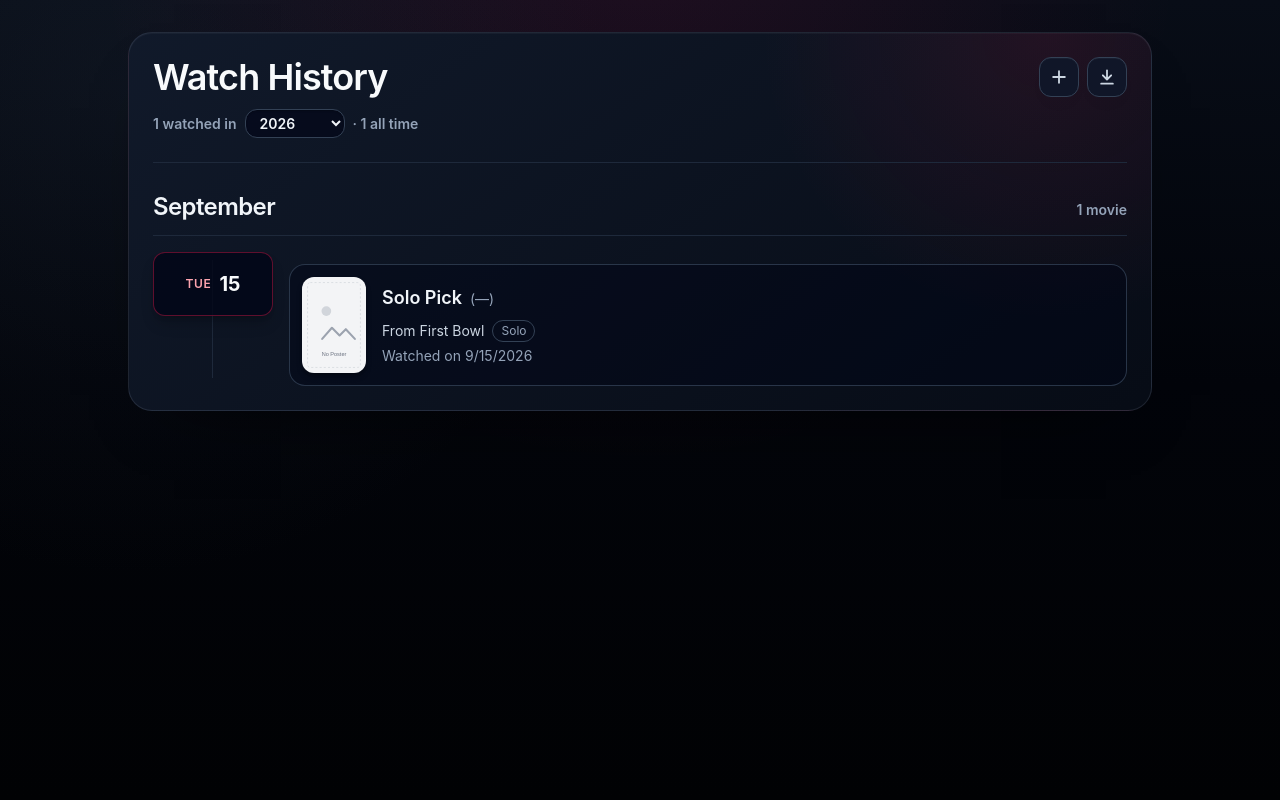
Test: WatchListPage solo undo › promises the copies back before undoing
The image size is (1280, 800).
Expected: the heading "Solo Pick" is shown, [382,284,462,312]
Click the button "Solo Pick (—) From First Bowl Solo Watched on 9/15/2026" at (334, 325), box [289,264,1127,386]
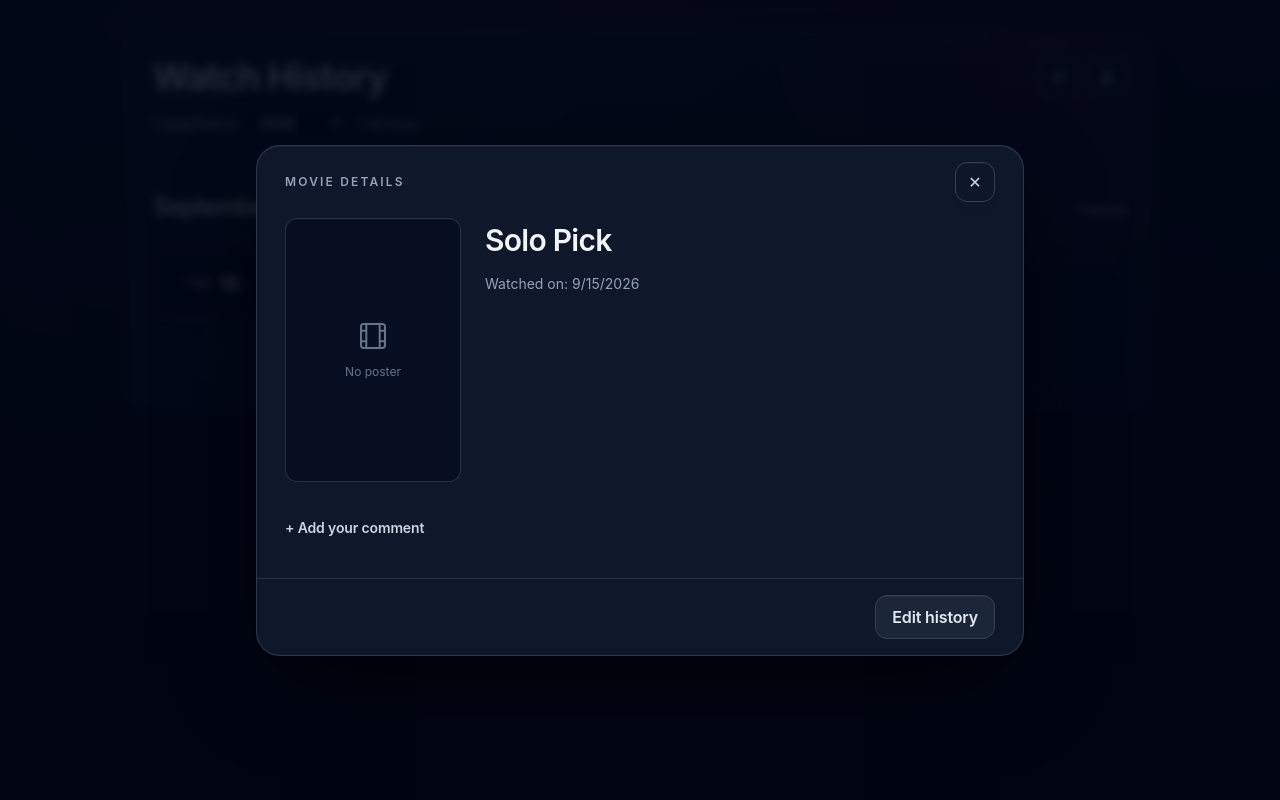
Click the button "Edit history" at (935, 616), box [875,594,995,638]
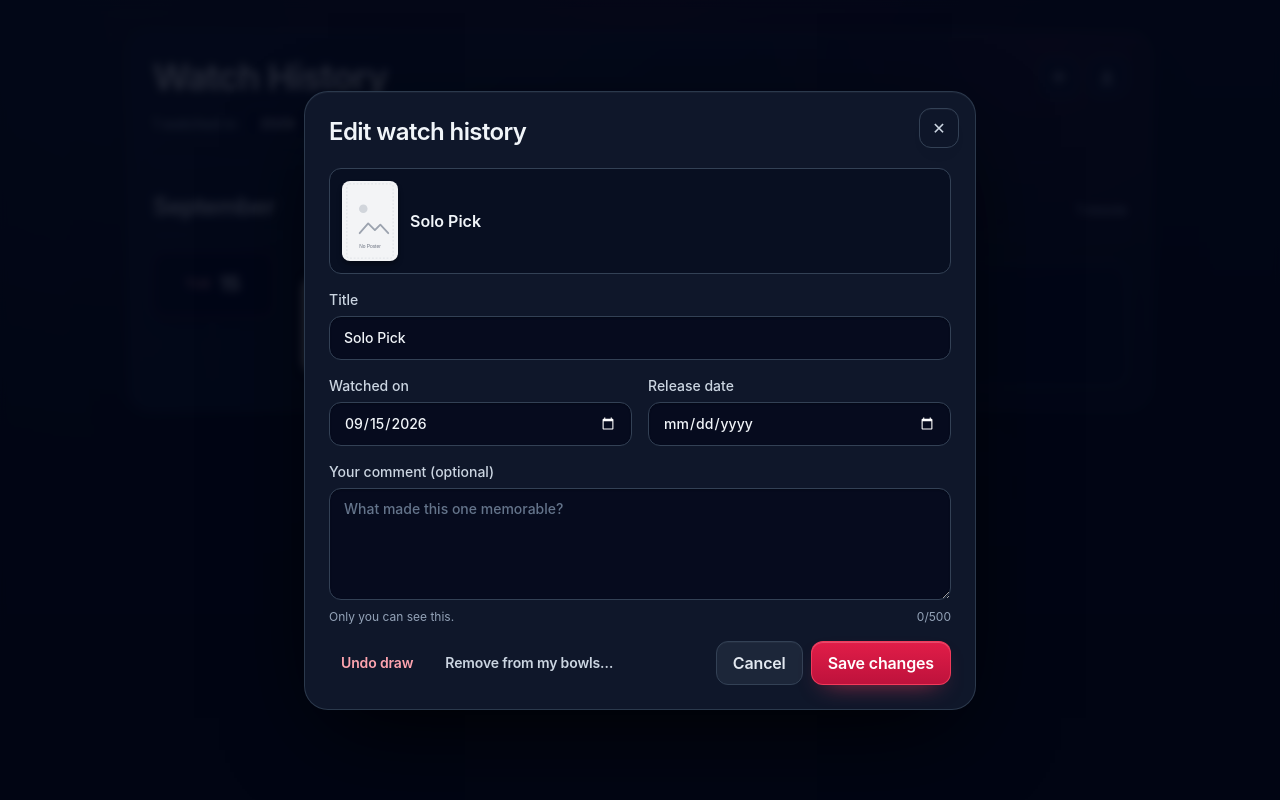
Click the button "Undo draw" at (377, 662), box [329,640,425,684]
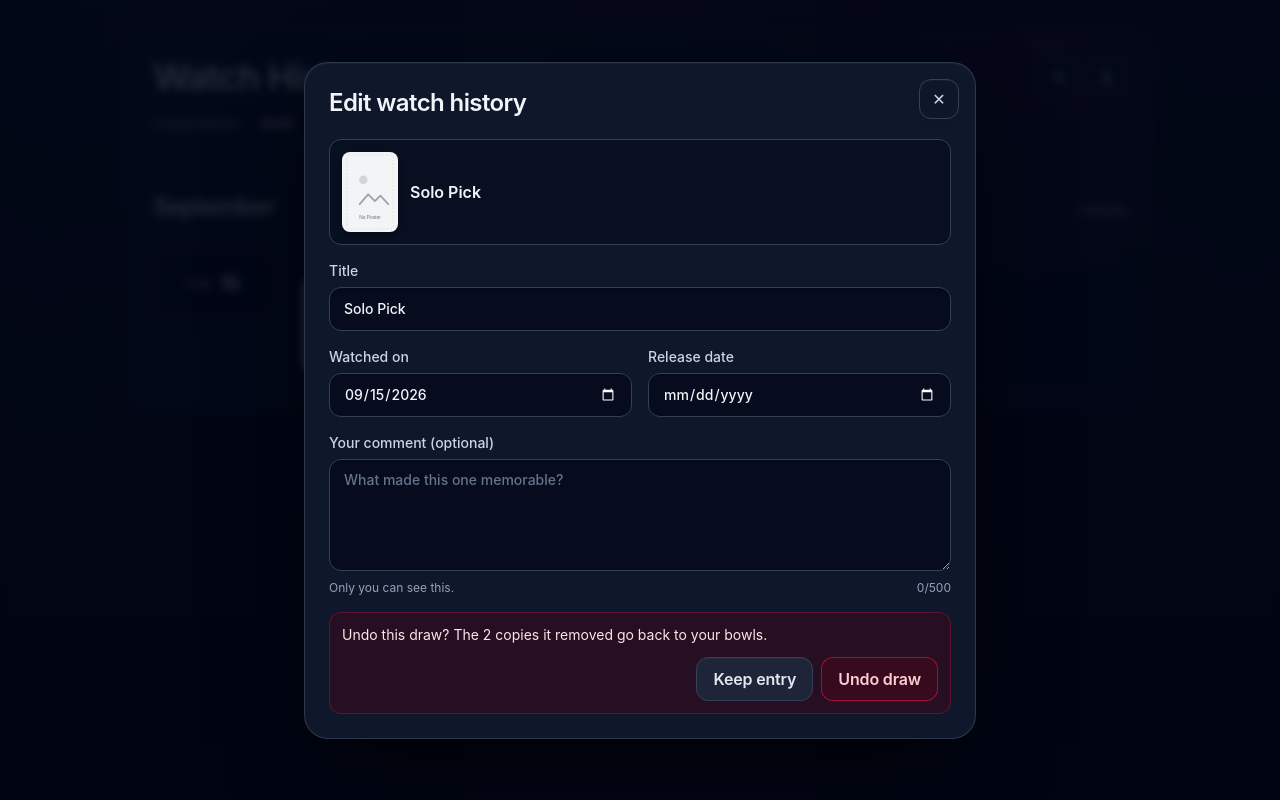
Expected: the text "Undo this draw? The 2 copies it removed go back to your bowls." is shown, [342,626,767,642]
